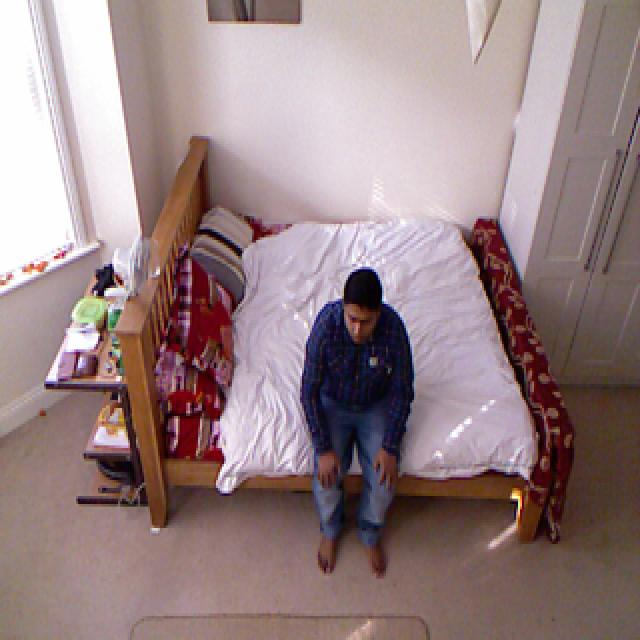sitting: (304, 269, 415, 574)
